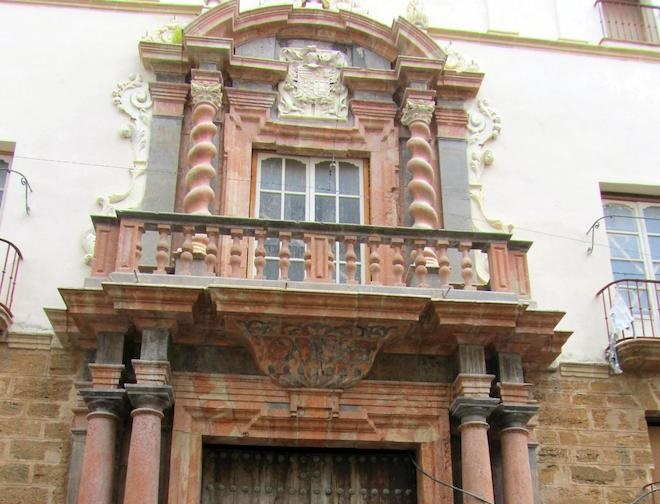columna-salomonica: (402, 119, 444, 227), (181, 102, 219, 214)
fronton-partido: (178, 1, 448, 82)
